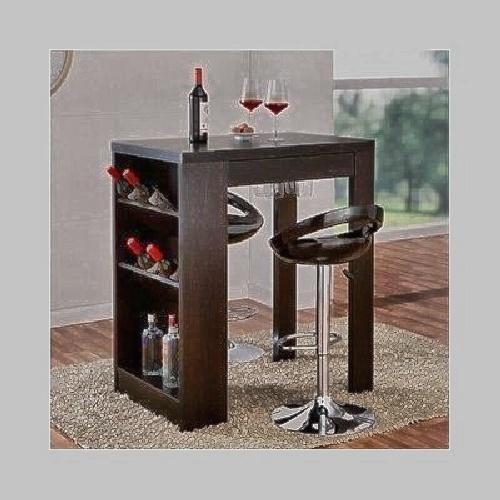table: (113, 131, 388, 411)
